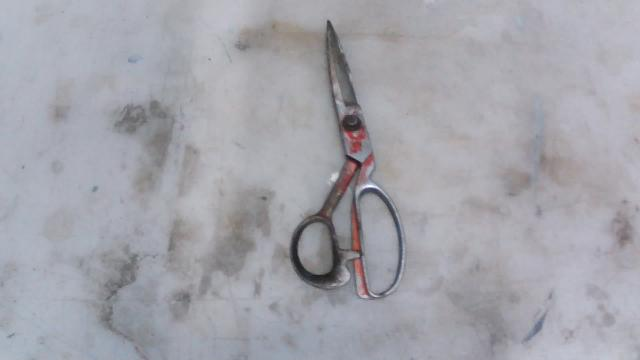gunting: (277, 11, 439, 318)
